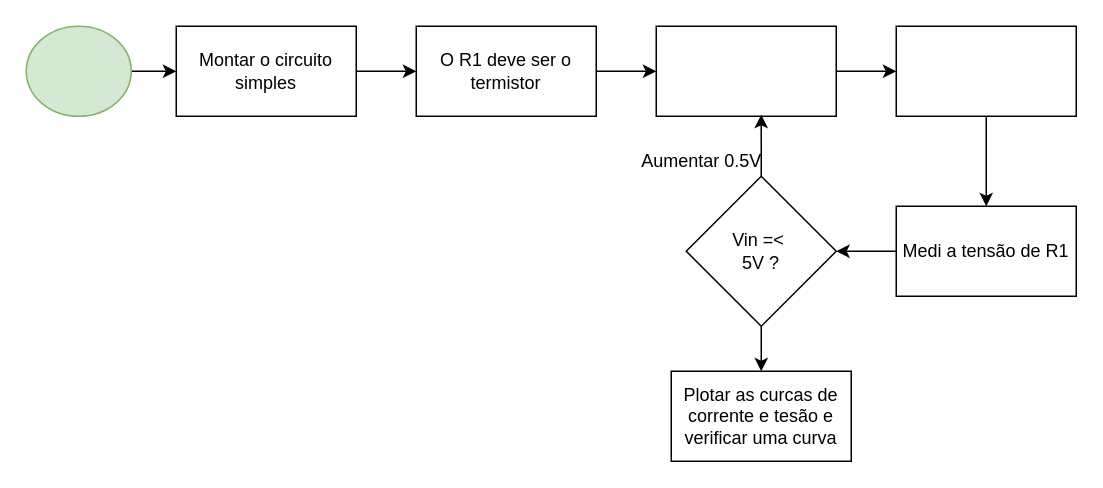
Some shapes in this 1103 by 488 pixel diagram are drawn without their labels. The shapes that lost their labels are listed below. From the top down, each one's centre as x and y in pixels, then its label:
At point (745, 70): "Alimente o circuto com tensão fixa".
At point (985, 70): "Esquentar o R1 com um isqueiro".
